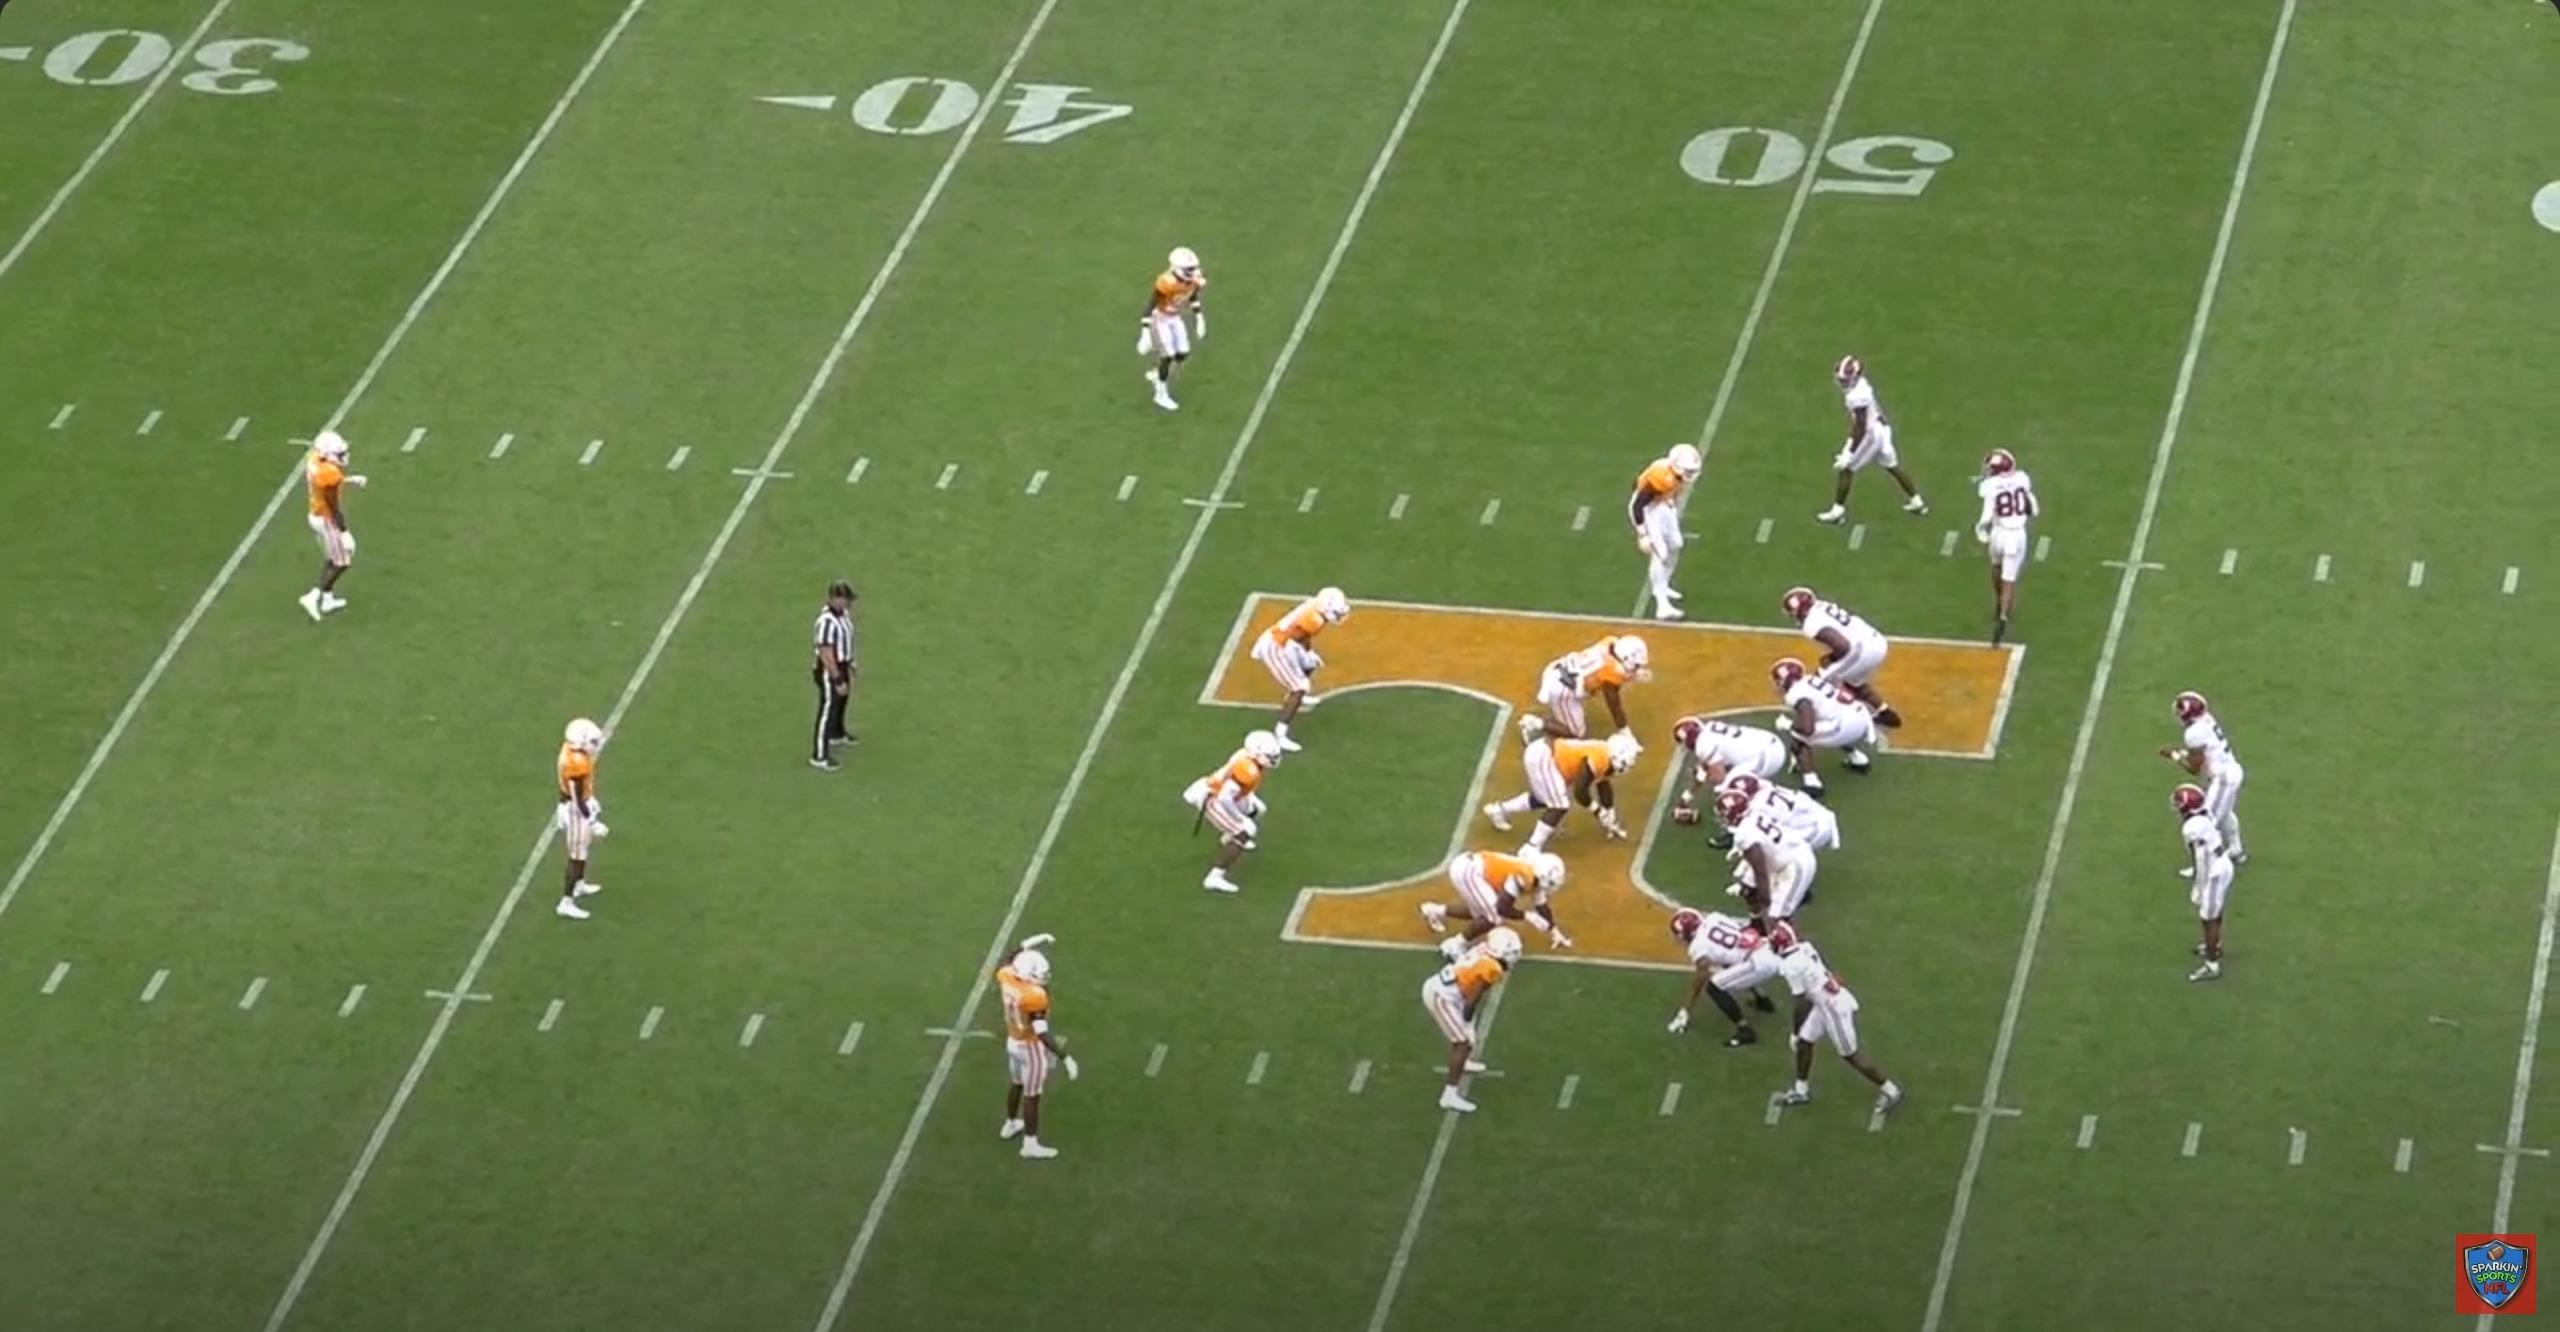player: (1756, 920, 1911, 1126), (1820, 354, 1941, 535), (1418, 921, 1527, 1120), (992, 937, 1085, 1166), (1477, 733, 1645, 854), (1664, 911, 1795, 1059), (1779, 583, 1904, 738), (2161, 688, 2256, 882), (1705, 793, 1820, 951), (1194, 725, 1296, 901), (2163, 782, 2248, 989), (1414, 842, 1569, 954), (1258, 588, 1356, 762), (545, 711, 622, 932), (1958, 449, 2036, 664), (1761, 655, 1877, 797), (1510, 632, 1650, 748), (281, 422, 361, 624), (1621, 438, 1703, 627), (1671, 714, 1802, 830), (1127, 245, 1207, 422), (1718, 773, 1845, 864)
ref: (796, 578, 871, 780)
